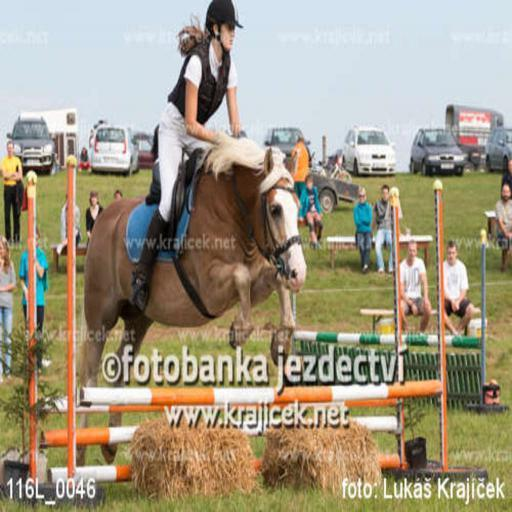horse: (74, 128, 308, 470)
